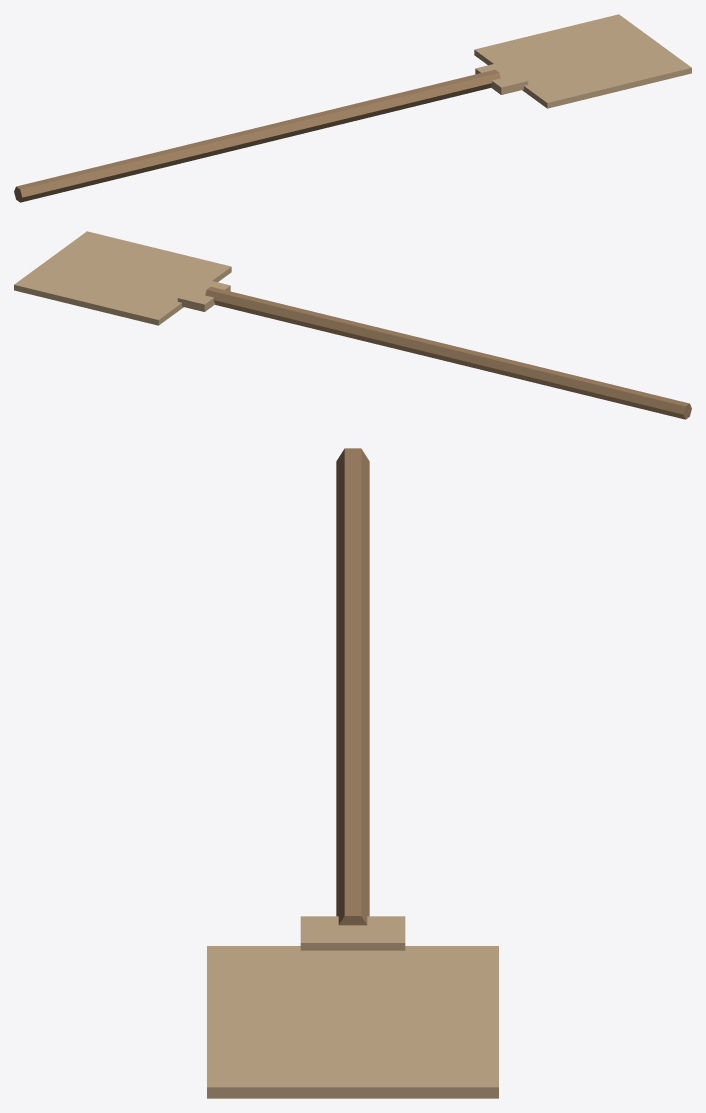
Rendered from prop-baking-peel.fbx.
3 renders of one model, top to bottom at view 1: azimuth 30°, elevation 25°; view 2: azimuth 150°, elevation 25°; view 3: azimuth 270°, elevation 25°, orthographic. The views are drawn at different scales.
Visible parts, largest first — view 1: prop-baking-peel; view 2: prop-baking-peel; view 3: prop-baking-peel.
Part boxes in pixels (x1,y1,x2,y2): prop-baking-peel: (14,14,691,202); prop-baking-peel: (14,231,691,419); prop-baking-peel: (207,448,498,1098).
Size of the model in its own units: 141 by 2.99 by 28.
